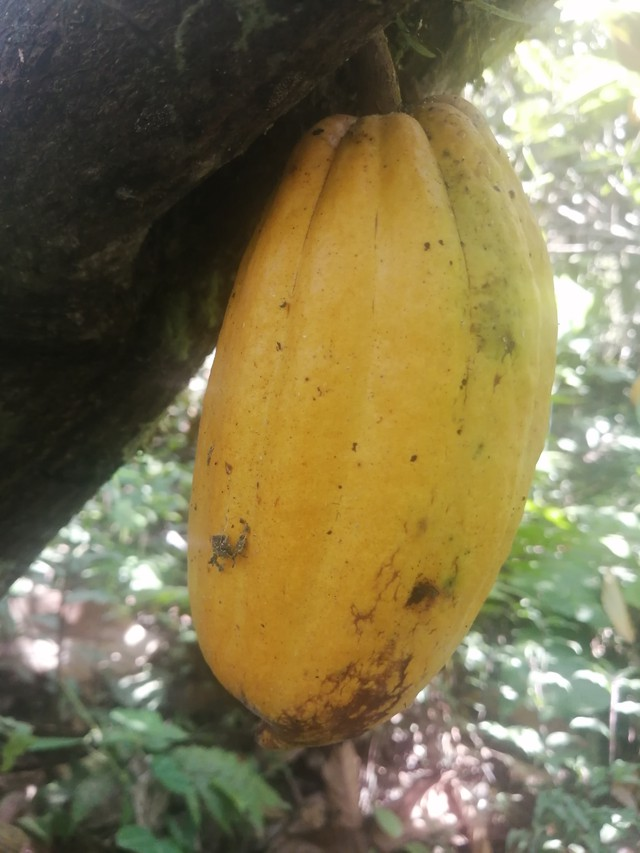Health: (164, 69, 590, 761)
